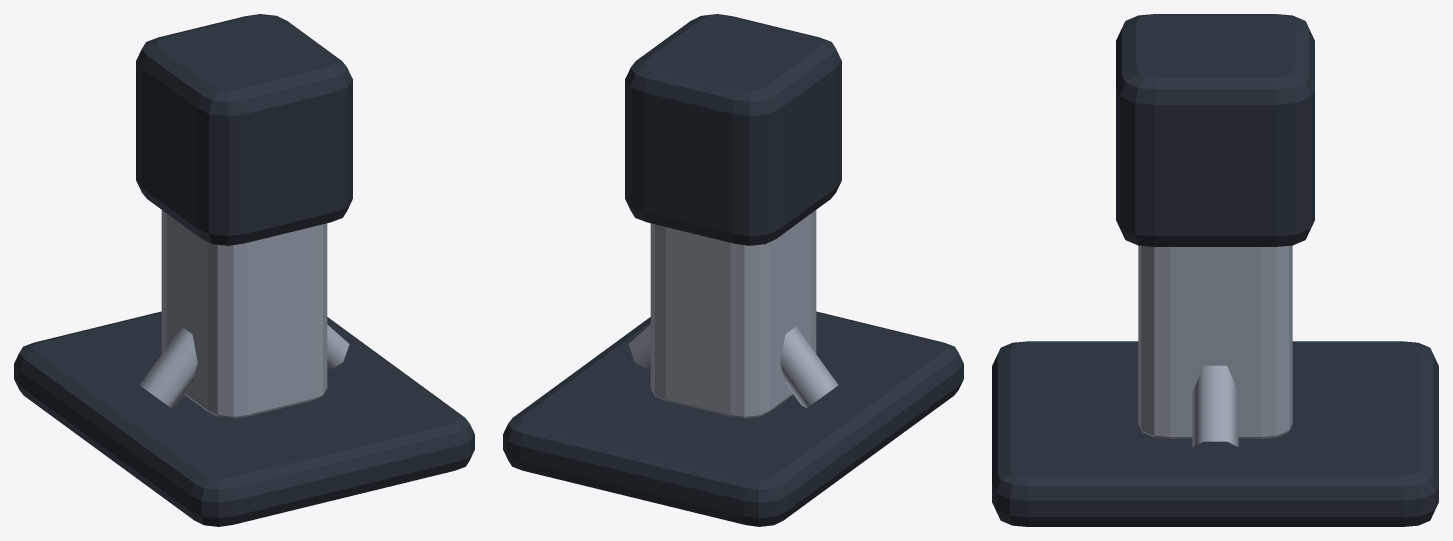
The model's file is aurora_x9_gear.gltf.
The picture shows the model from 3 angles, left to right: view 1: azimuth 30°, elevation 25°; view 2: azimuth 150°, elevation 25°; view 3: azimuth 270°, elevation 25°; orthographic projection. The views are drawn at different scales.
Parts seen in each view (by area): view 1: aurora_x9_gear; view 2: aurora_x9_gear; view 3: aurora_x9_gear.
Boxes of the visible parts, box(x1,y1,x2,y2) form: aurora_x9_gear: box(14, 14, 474, 526); aurora_x9_gear: box(503, 14, 963, 526); aurora_x9_gear: box(992, 14, 1438, 526).
Size of the model in its own units: 0.38 by 0.49 by 0.48.
